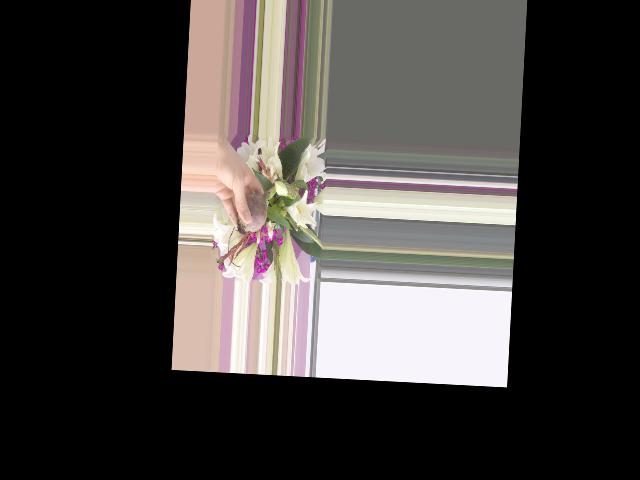beet: (235, 182, 275, 236)
